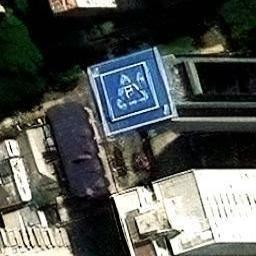heliponto: (101, 63, 159, 120)
